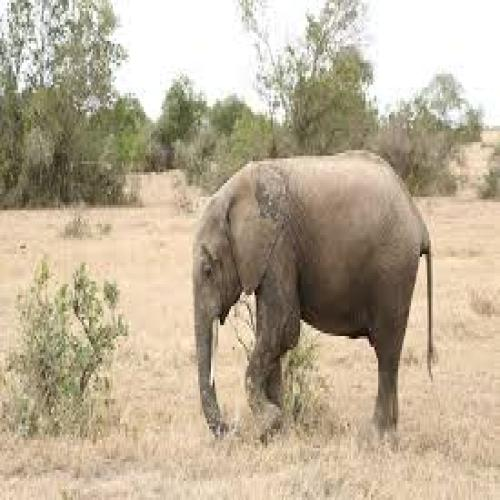asian_elephant-endangered: (191, 156, 435, 438)
